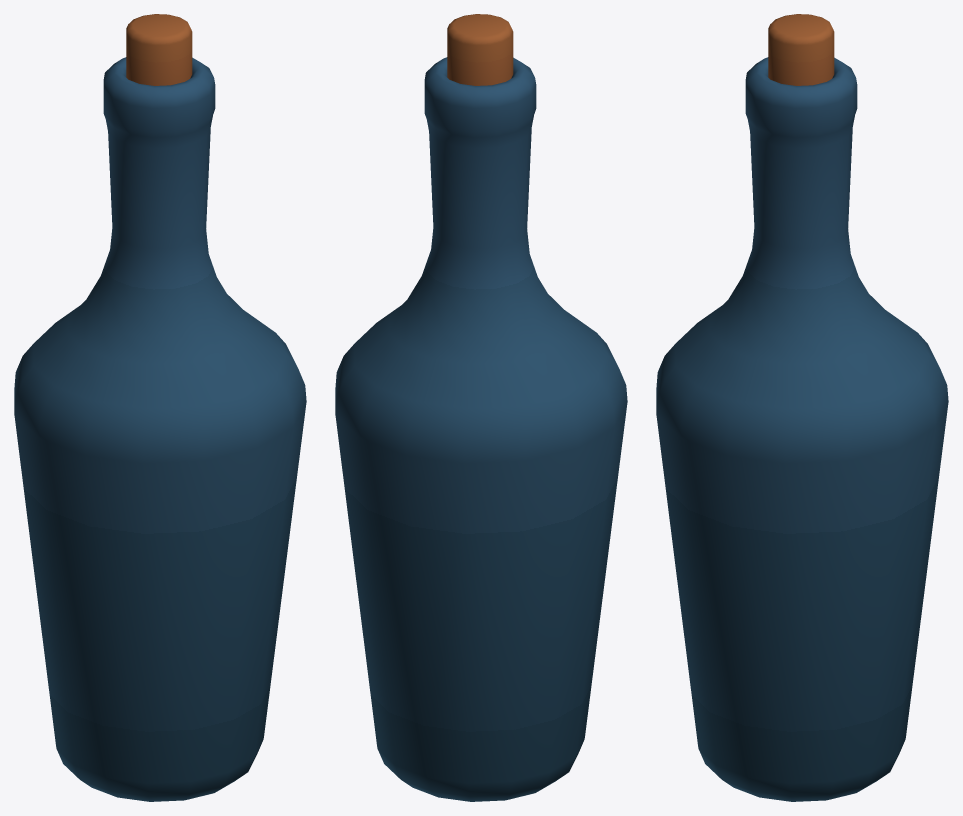
Rendered from Bottle.glb.
The picture shows the model from 3 angles, left to right: view 1: azimuth 30°, elevation 25°; view 2: azimuth 150°, elevation 25°; view 3: azimuth 270°, elevation 25°; orthographic projection.
Visible parts, largest first — view 1: Bottle; view 2: Bottle; view 3: Bottle.
Boxes of the visible parts, x1,y1,x2,y2 form: Bottle: (14, 14, 306, 801); Bottle: (335, 14, 627, 801); Bottle: (656, 14, 948, 801).
Bounding box in the file's own units: 0.1484 × 0.4156 × 0.1475.
1 material, 1 textured.
